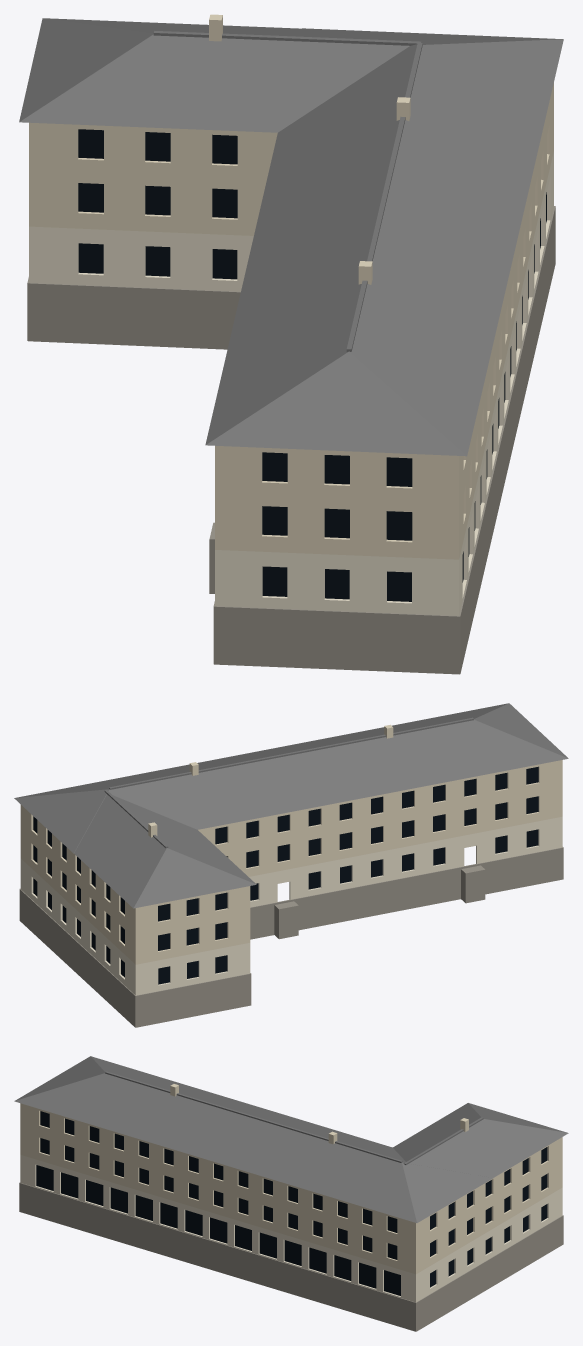
Rendered from nahimova10.lod.glb.
3 renders of one model, top to bottom at view 1: azimuth 30°, elevation 25°; view 2: azimuth 150°, elevation 25°; view 3: azimuth 270°, elevation 25°, orthographic. The views are drawn at different scales.
Parts seen in each view (by area): view 1: nahimova10_roof, nahimova10_wall, nahimova10_stone, nahimova10_wall2, nahimova10_glass; view 2: nahimova10_roof, nahimova10_wall, nahimova10_stone, nahimova10_wall2, nahimova10_glass; view 3: nahimova10_roof, nahimova10_wall, nahimova10_stone, nahimova10_glass, nahimova10_wall2.
Boxes of the visible parts, bbox=[...] form: nahimova10_roof: bbox=[19, 18, 563, 456]; nahimova10_wall: bbox=[29, 14, 553, 559]; nahimova10_stone: bbox=[27, 206, 555, 674]; nahimova10_wall2: bbox=[29, 151, 553, 615]; nahimova10_glass: bbox=[78, 129, 546, 601]; nahimova10_roof: bbox=[14, 703, 568, 908]; nahimova10_wall: bbox=[20, 724, 562, 964]; nahimova10_stone: bbox=[19, 847, 563, 1027]; nahimova10_wall2: bbox=[20, 816, 562, 995]; nahimova10_glass: bbox=[33, 766, 538, 984]; nahimova10_roof: bbox=[14, 1056, 568, 1222]; nahimova10_wall: bbox=[20, 1084, 562, 1274]; nahimova10_stone: bbox=[19, 1182, 563, 1331]; nahimova10_glass: bbox=[36, 1111, 547, 1295]; nahimova10_wall2: bbox=[20, 1155, 562, 1302].
Size of the model in its own units: 43.97 by 17.3 by 61.69.
